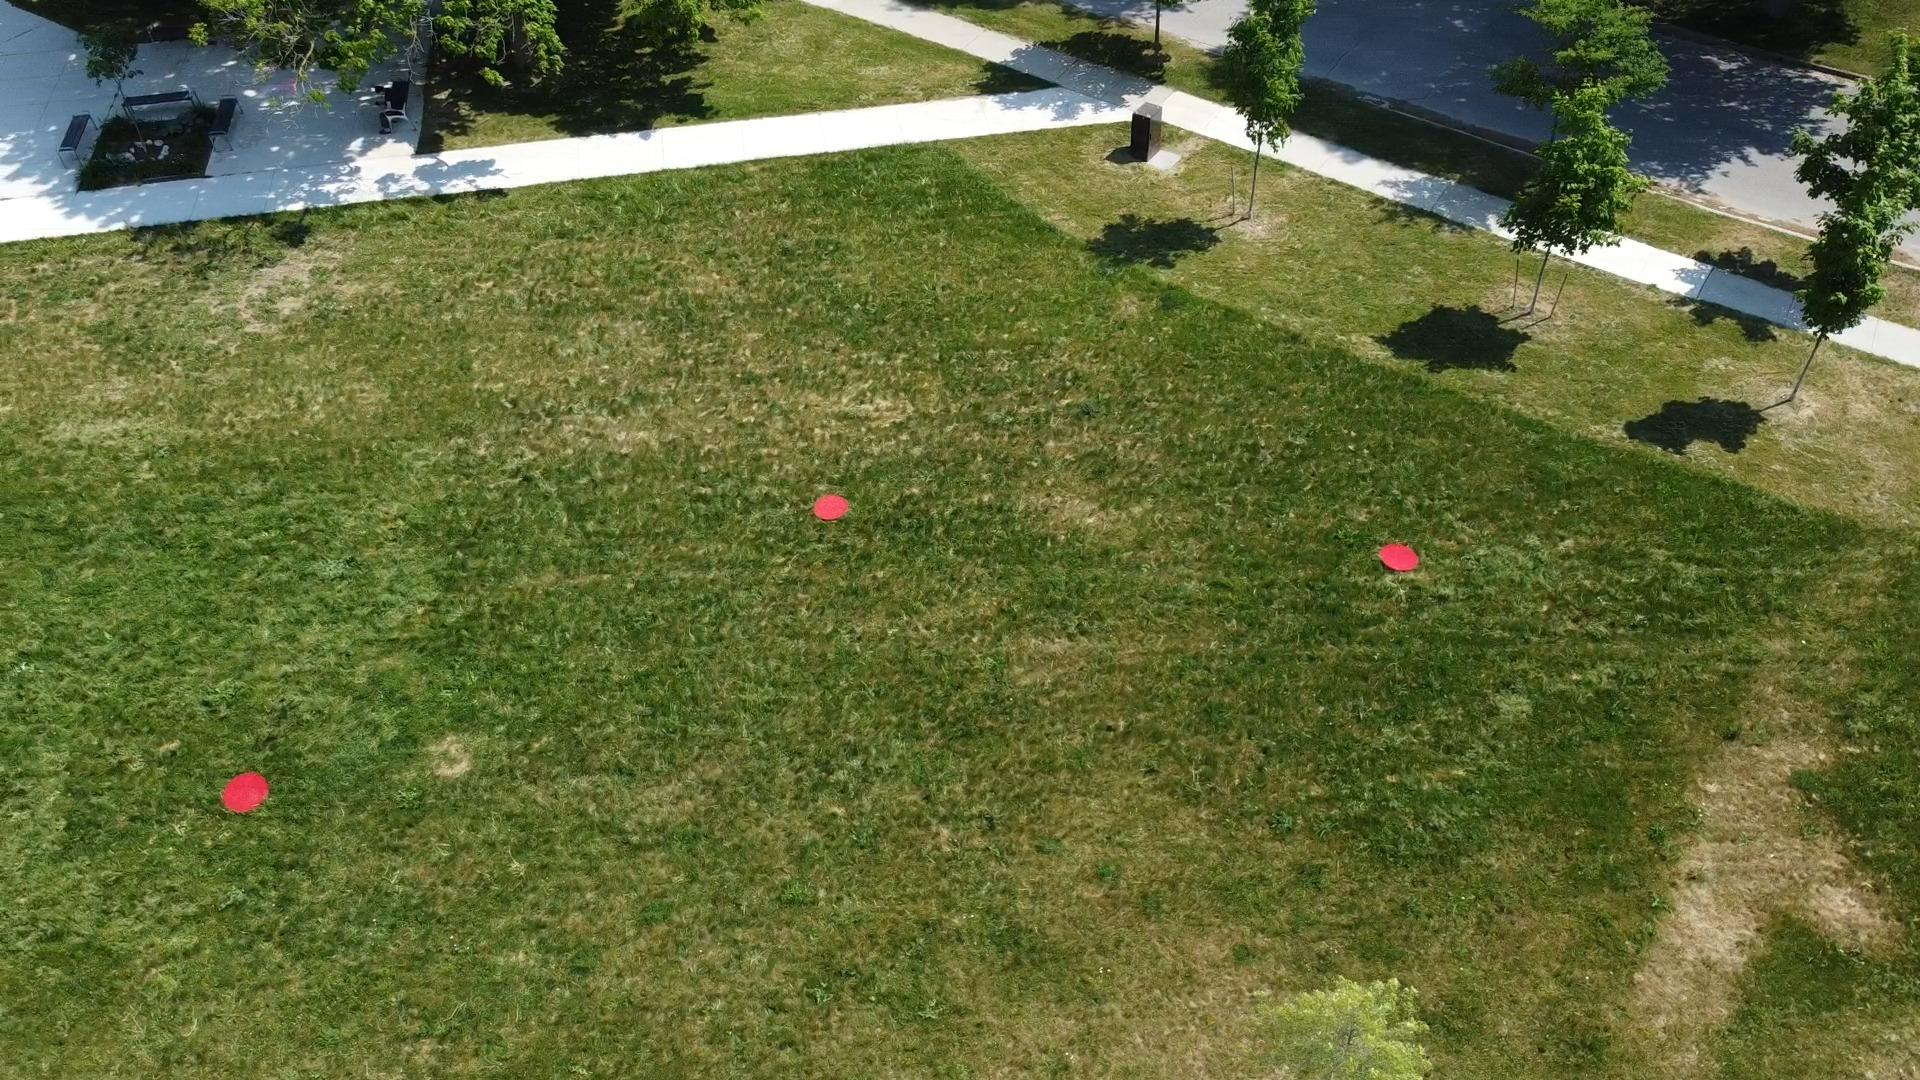Red: (222, 771, 270, 815), (1379, 542, 1420, 574), (812, 492, 851, 522)
